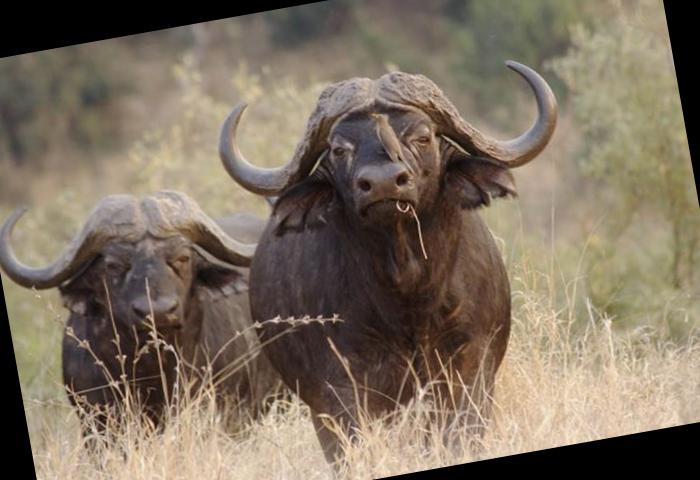Buffalo: (0, 0, 645, 476)
